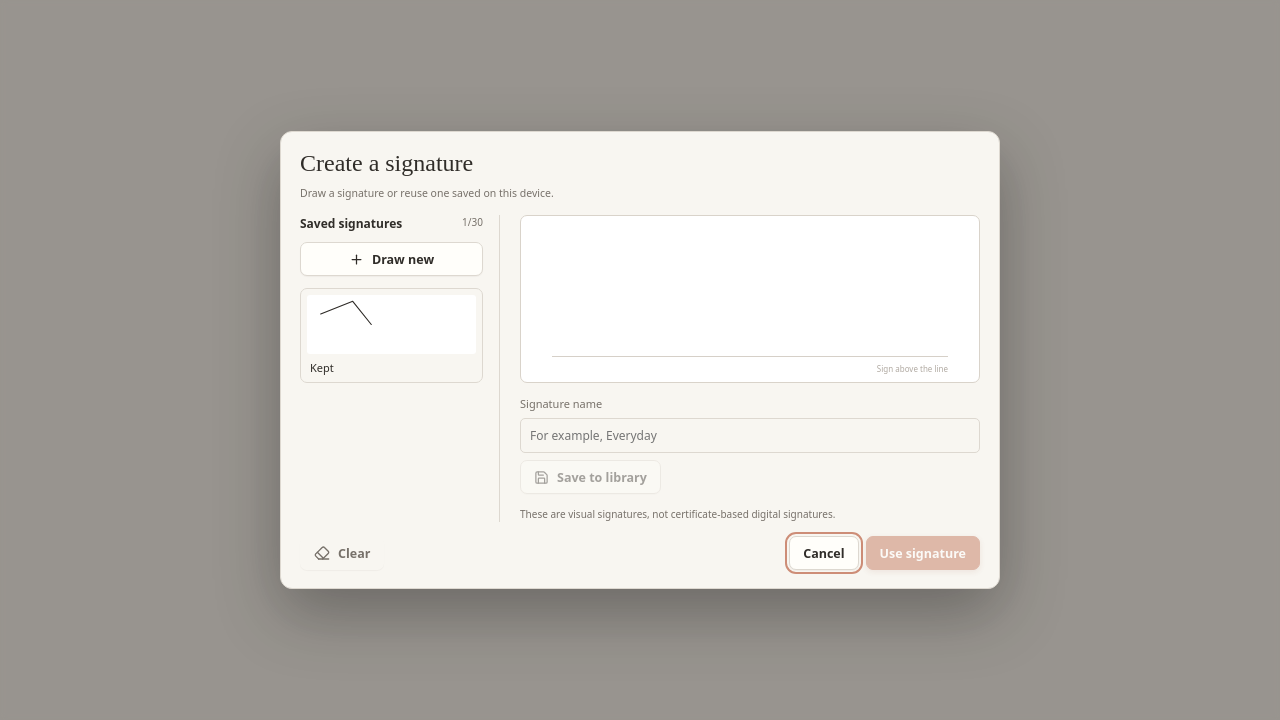
Test: signature library dialog › shows storage errors without pretending a rename succeeded
Click the button with aria-label "Select signature Kept": (392, 336) [300,288,483,383]
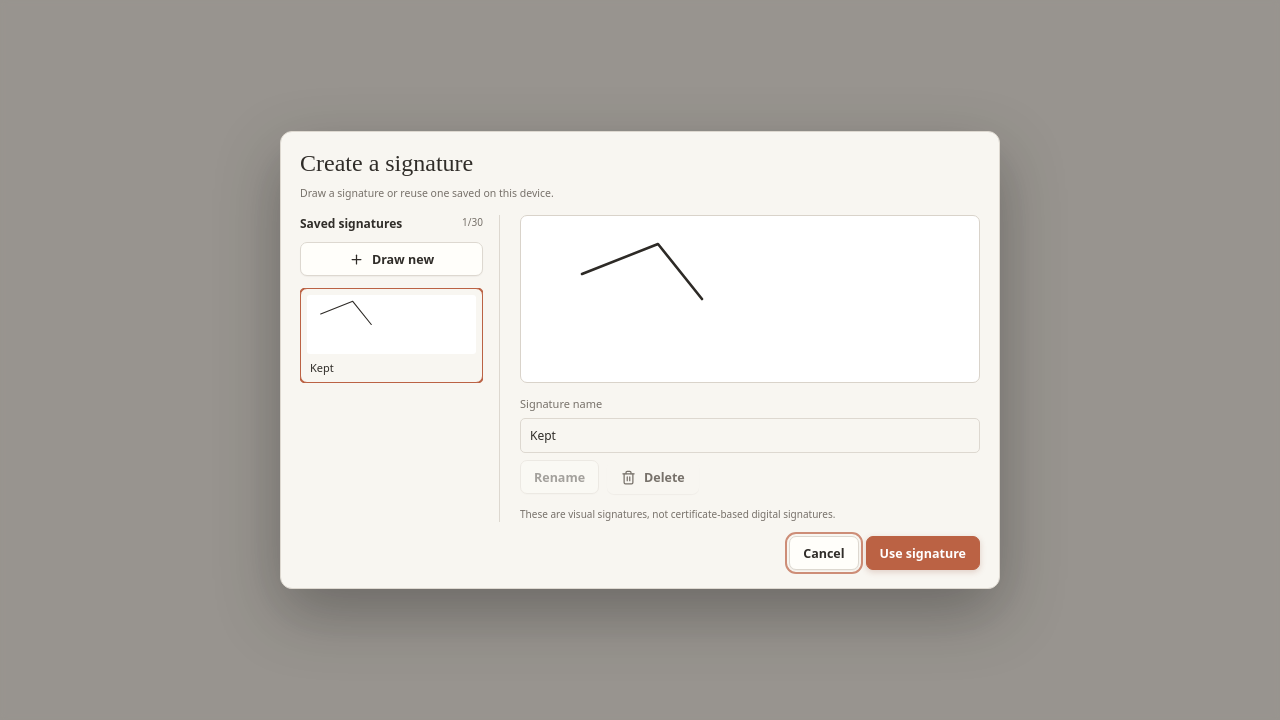
Replace the text in the field labelled "Signature name" with "Changed": (750, 436) [520,418,980,453]
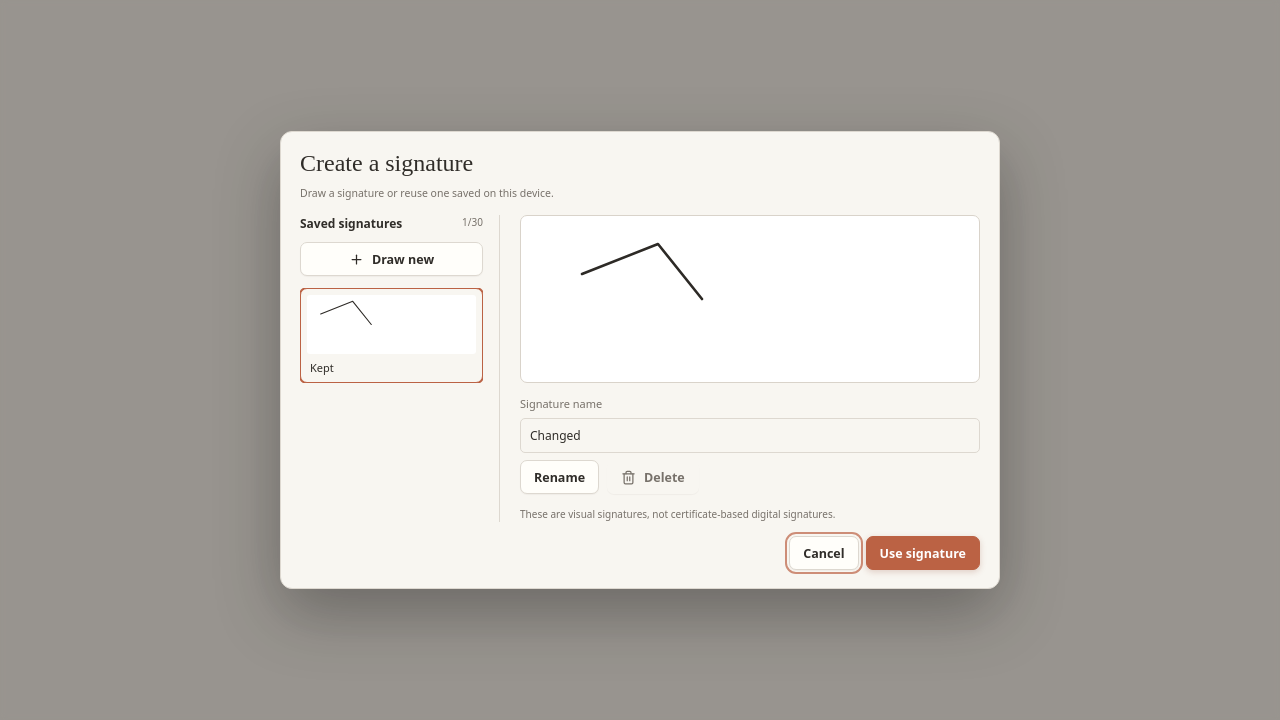
Click the button "Rename": (560, 477) [520,460,599,494]
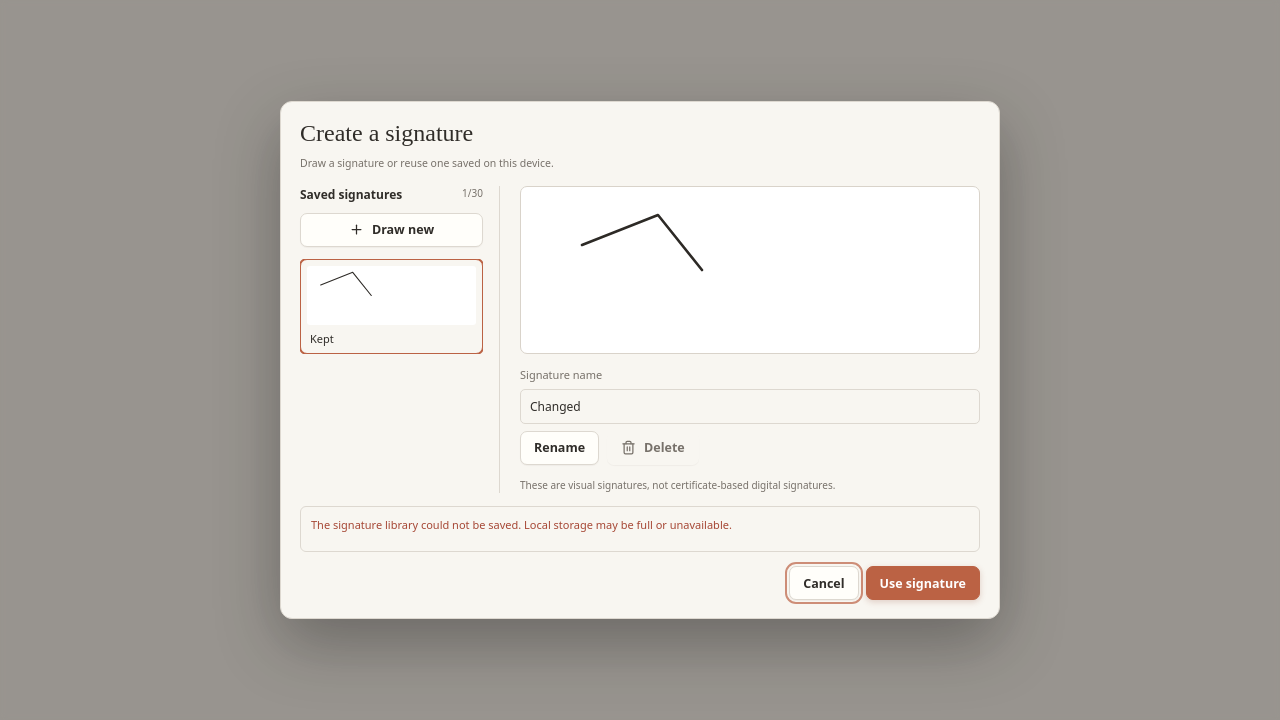
Expected: the text "Kept" is shown, [310,331,334,346]
Expected: the message shows "could not be saved", [311,517,732,532]
